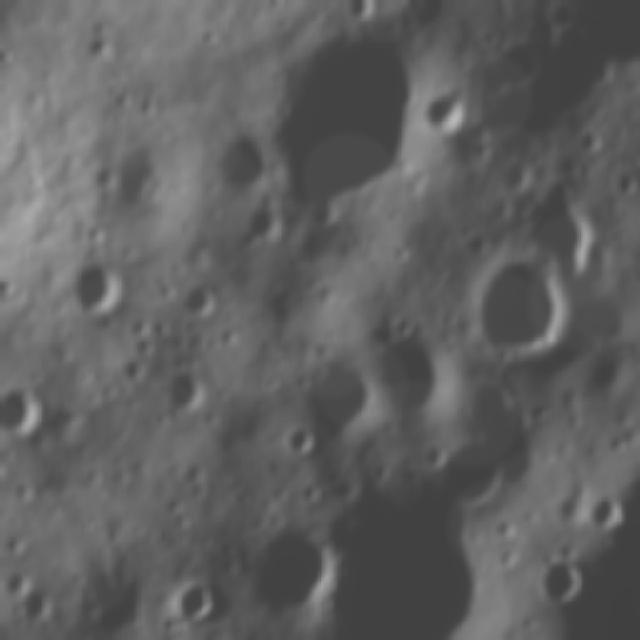crater: (253, 36, 430, 216), (313, 491, 495, 637), (473, 255, 576, 363), (299, 359, 384, 448), (255, 526, 333, 612), (375, 336, 454, 418), (515, 200, 599, 268), (438, 437, 508, 505), (64, 256, 128, 318), (215, 131, 274, 194), (536, 551, 589, 612), (416, 84, 476, 136), (109, 150, 160, 207), (487, 37, 542, 88), (2, 380, 48, 437), (170, 576, 222, 624), (164, 366, 210, 414), (277, 420, 323, 460), (588, 490, 628, 535), (248, 203, 286, 246), (182, 280, 222, 320), (19, 582, 56, 620), (385, 303, 418, 345), (520, 396, 557, 433), (328, 1, 378, 28), (82, 31, 115, 63), (1, 566, 34, 596), (574, 122, 600, 153), (611, 167, 637, 196), (192, 22, 222, 47)
